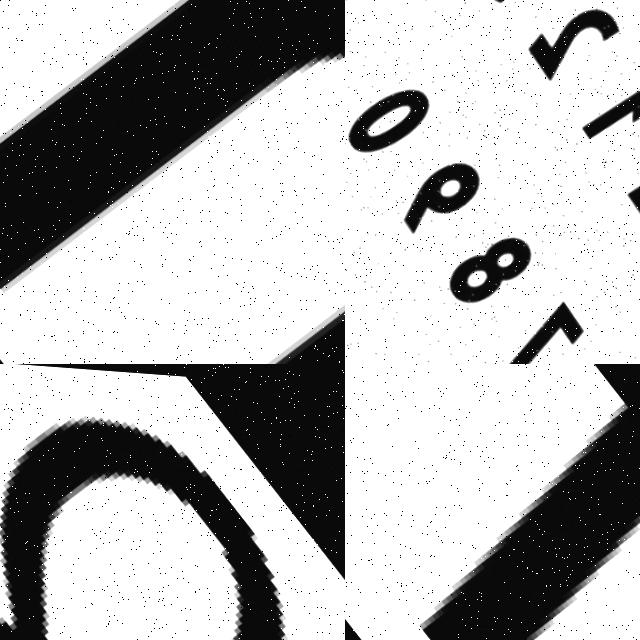0: (345, 52, 449, 184)
1: (572, 48, 640, 156)
2: (511, 0, 640, 95)
6: (521, 334, 640, 364)
7: (474, 273, 602, 364)
8: (0, 364, 345, 640), (424, 200, 554, 331)
9: (373, 129, 500, 255)
F: (345, 364, 640, 640)
N: (0, 0, 345, 364)
